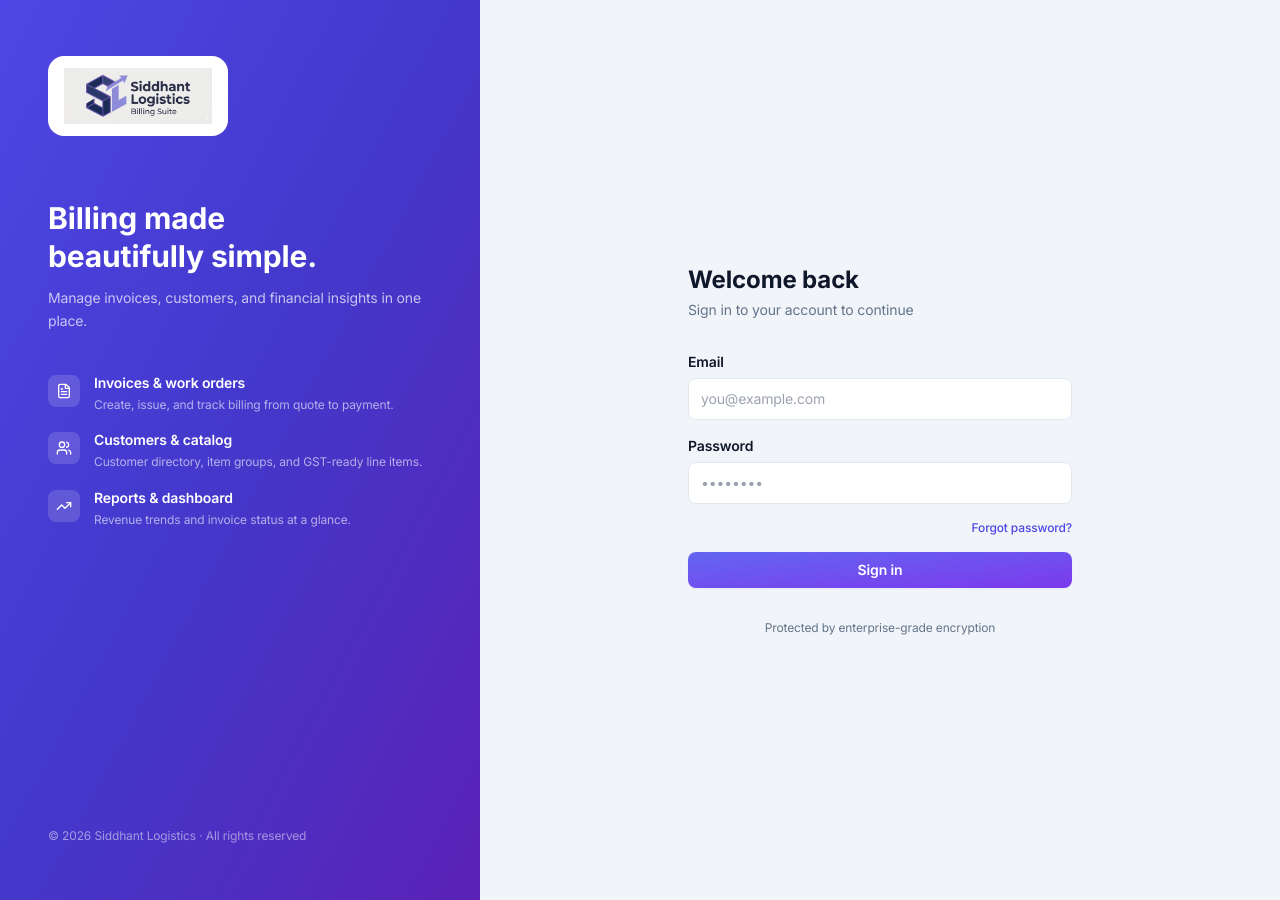
LoginPage › shows validation error for empty email
This screenshot has width=1280, height=900.
Click the button "Sign in": (880, 570) [688,552,1072,588]
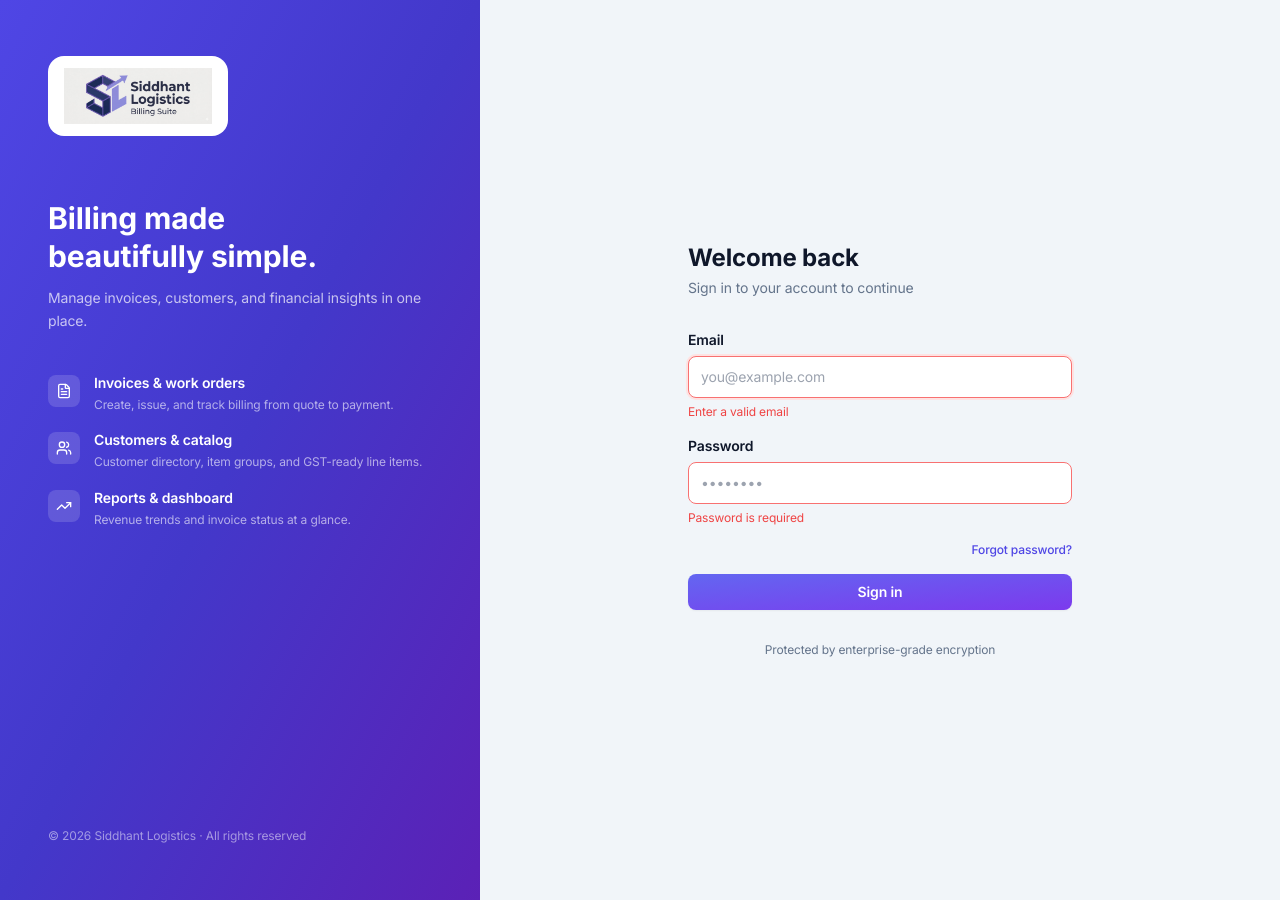
Now the text "Enter a valid email" is shown, box [688,404,788,419]
